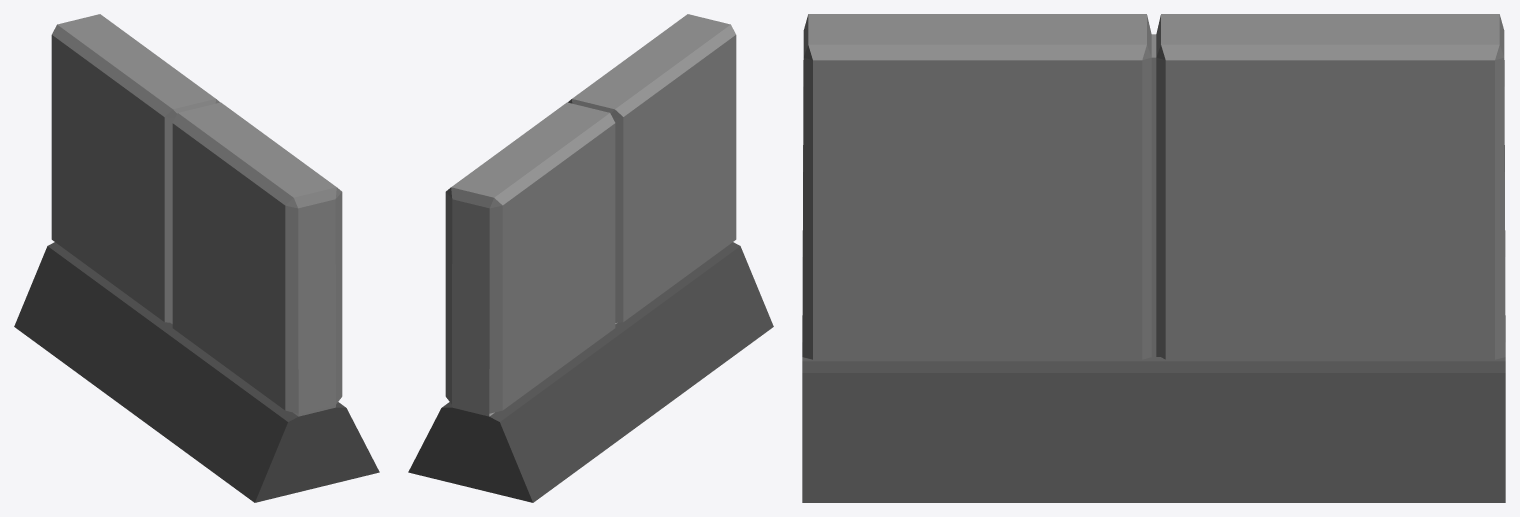
File: Block2.fbx
The picture shows the model from 3 angles, left to right: view 1: azimuth 30°, elevation 25°; view 2: azimuth 150°, elevation 25°; view 3: azimuth 270°, elevation 25°; orthographic projection. The views are drawn at different scales.
Visible parts, largest first — view 1: Fence; view 2: Fence; view 3: Fence.
Boxes of the visible parts, bbox=[...] form: Fence: bbox=[14, 14, 379, 502]; Fence: bbox=[408, 14, 773, 502]; Fence: bbox=[802, 14, 1505, 502].
Bounding box in the file's own units: 90 × 202 × 300.
